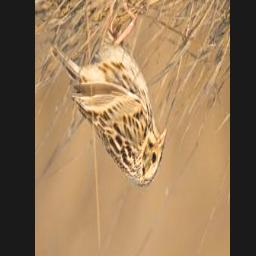Sparrow: (51, 0, 170, 189)
